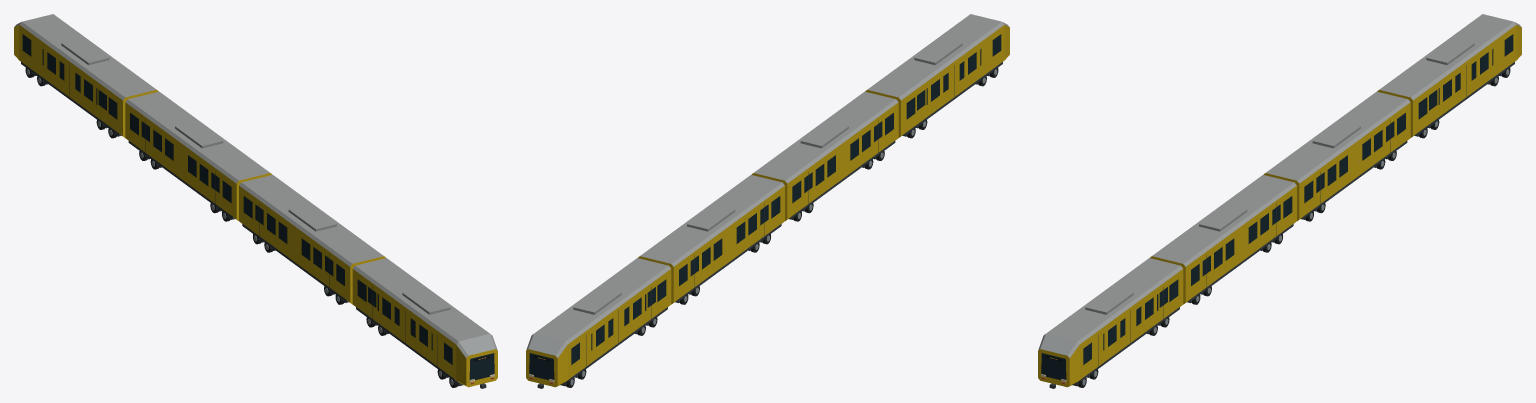
File: ubahn-jk.glb
3 renders of one model, left to right at view 1: azimuth 30°, elevation 25°; view 2: azimuth 150°, elevation 25°; view 3: azimuth 330°, elevation 25°, orthographic.
Visible parts, largest first — view 1: ubahn-jk.segment-01.005, ubahn-jk.segment-02.005, ubahn-jk.segment-03.005, ubahn-jk.segment-04.005; view 2: ubahn-jk.segment-04.005, ubahn-jk.segment-03.005, ubahn-jk.segment-02.005, ubahn-jk.segment-01.005; view 3: ubahn-jk.segment-01.005, ubahn-jk.segment-02.005, ubahn-jk.segment-03.005, ubahn-jk.segment-04.005.
Boxes of the visible parts, x1,y1,x2,y2 form: ubahn-jk.segment-01.005: (352,258,497,388); ubahn-jk.segment-02.005: (239,175,385,304); ubahn-jk.segment-03.005: (125,91,272,221); ubahn-jk.segment-04.005: (14,14,158,138); ubahn-jk.segment-04.005: (526,258,671,388); ubahn-jk.segment-03.005: (638,175,784,304); ubahn-jk.segment-02.005: (751,91,898,221); ubahn-jk.segment-01.005: (865,14,1009,138); ubahn-jk.segment-01.005: (1038,258,1183,388); ubahn-jk.segment-02.005: (1150,175,1296,304); ubahn-jk.segment-03.005: (1263,91,1410,221); ubahn-jk.segment-04.005: (1377,14,1521,138).
Size of the model in its own units: 2.45 by 3.38 by 52.24.
